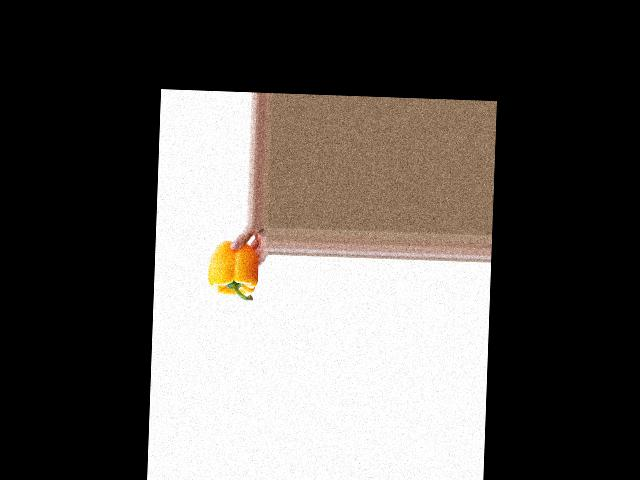bell_pepper: (205, 238, 259, 304)
